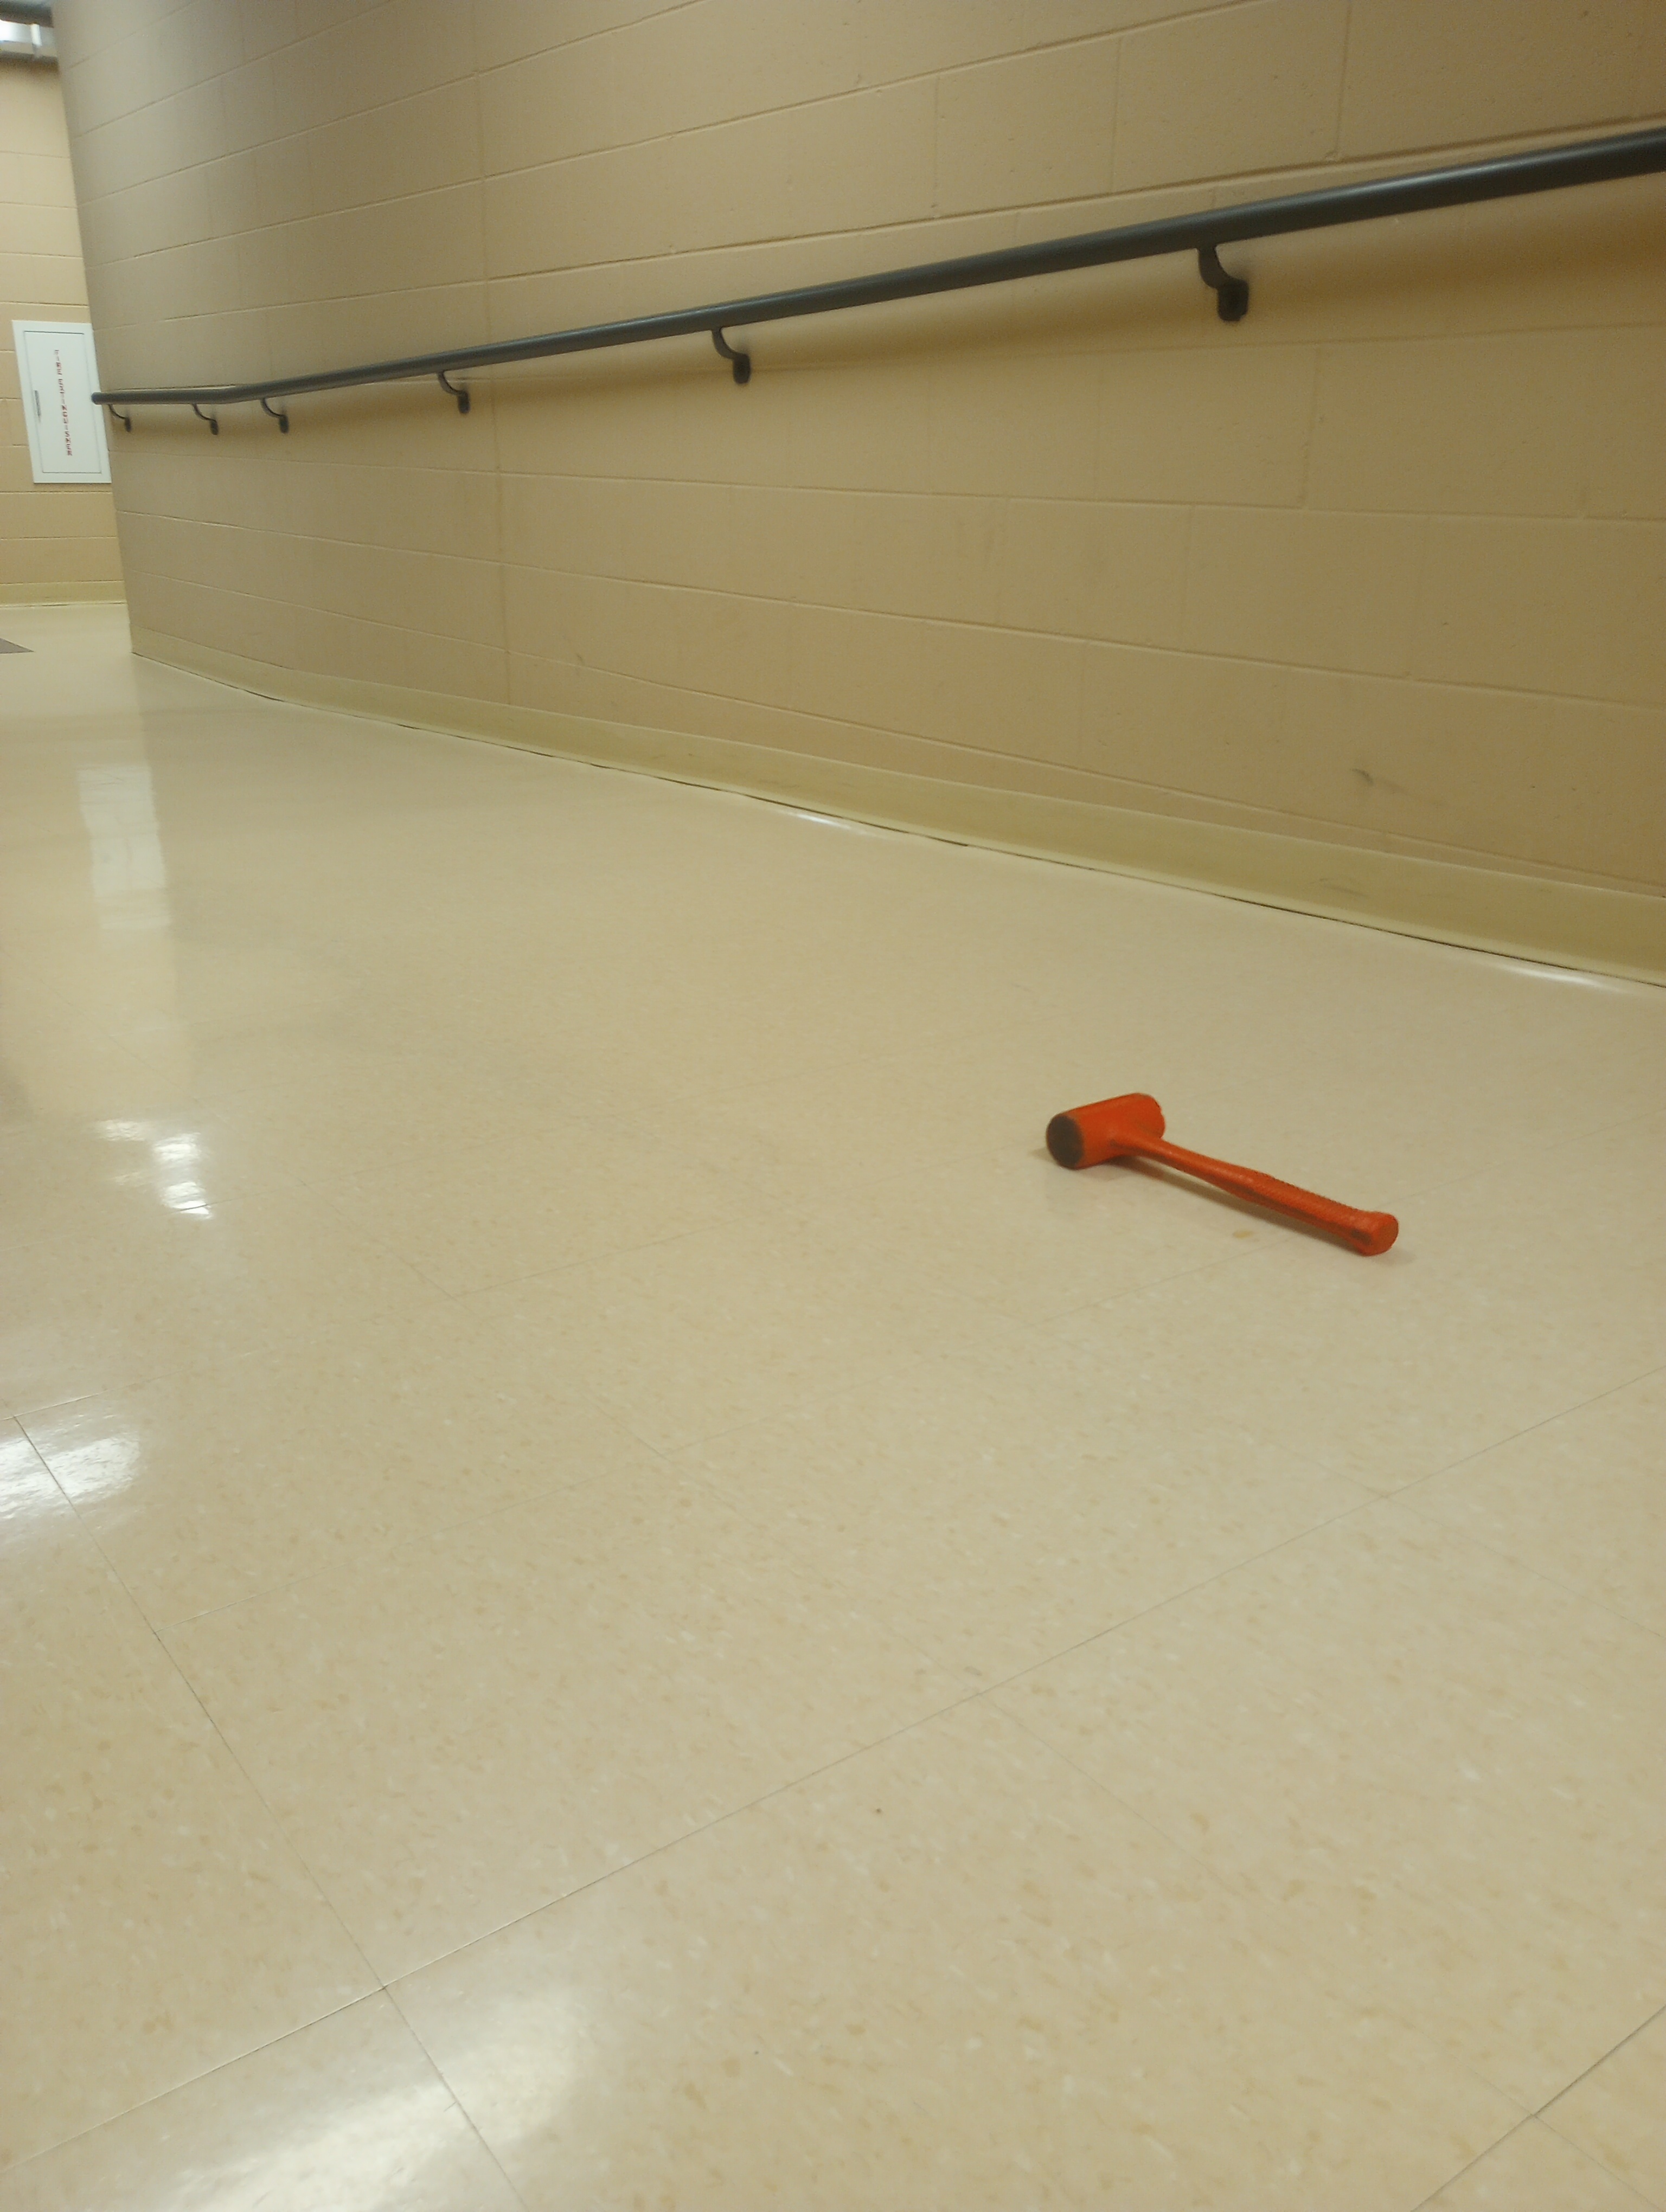bottle: (1039, 1077, 1405, 1276)
